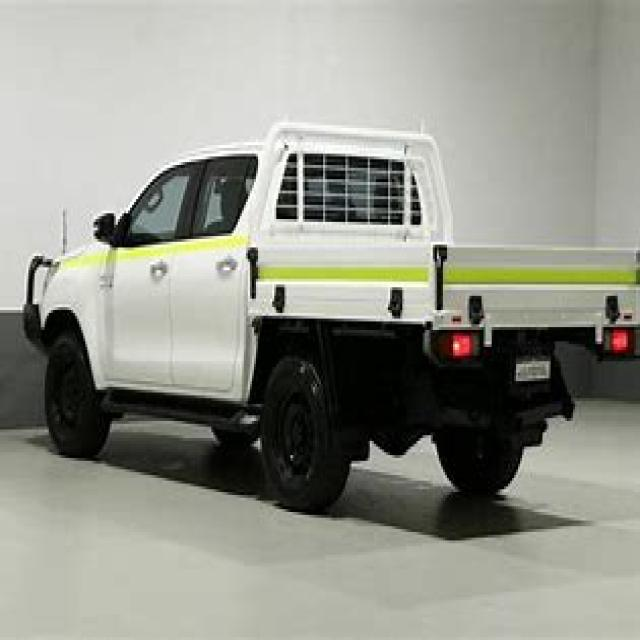light_vehicle: (16, 94, 638, 537)
